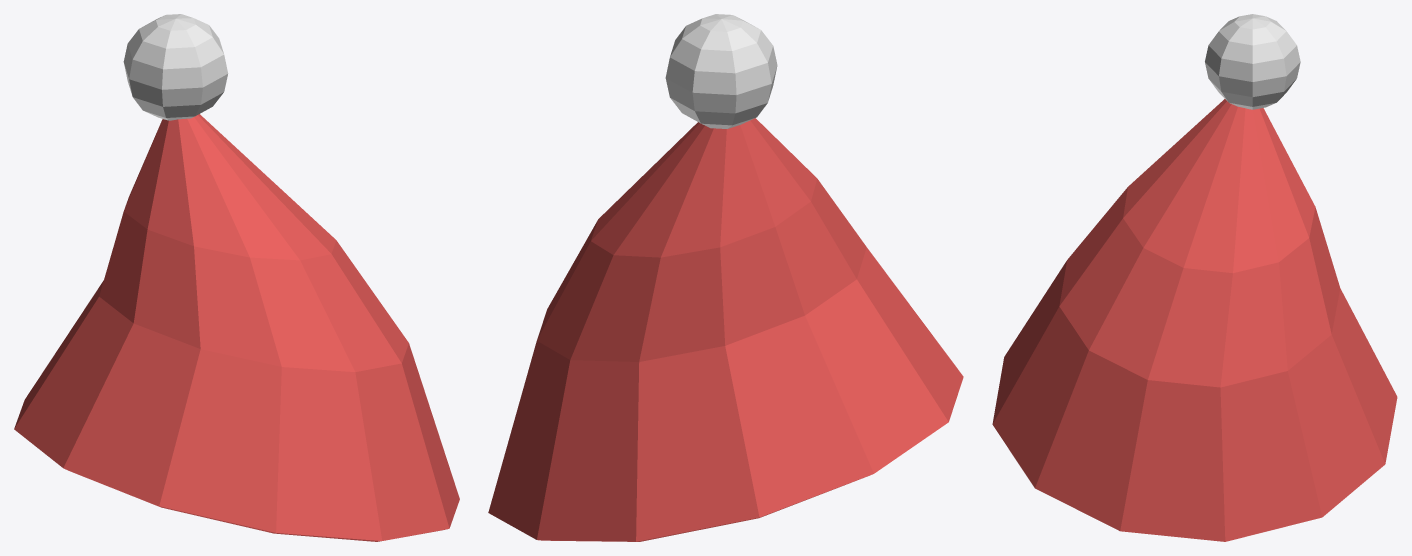
File: Woolly_hat.fbx
The picture shows the model from 3 angles, left to right: view 1: azimuth 30°, elevation 25°; view 2: azimuth 150°, elevation 25°; view 3: azimuth 270°, elevation 25°; orthographic projection. The views are drawn at different scales.
Visible parts, largest first — view 1: 구체; view 2: 구체; view 3: 구체.
Boxes of the visible parts, <box> form: 구체: <box>14,14,459,541</box>; 구체: <box>488,14,963,541</box>; 구체: <box>992,14,1397,541</box>.
Size of the model in its own units: 10.88 by 13.23 by 11.28.
